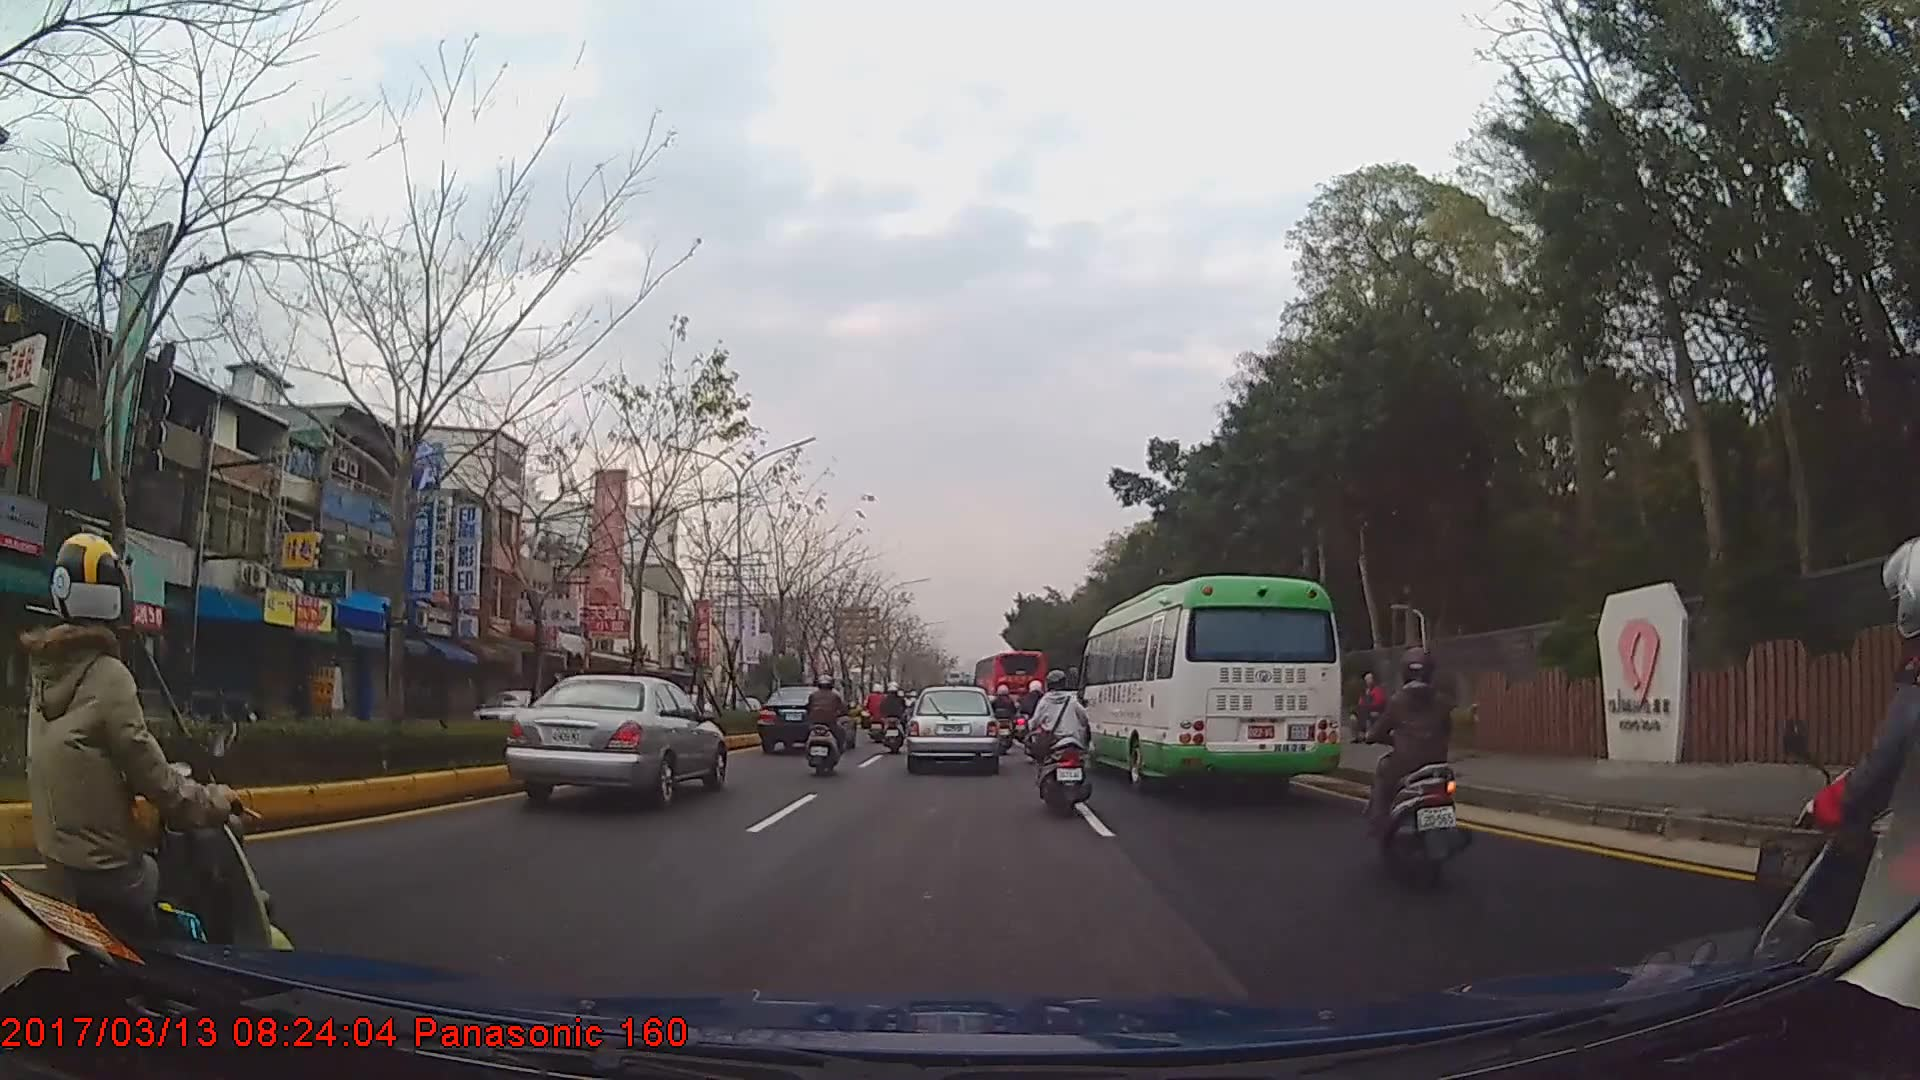pedestrian: (1352, 673, 1389, 748)
rider: (1, 527, 298, 1037), (1359, 649, 1472, 879), (1027, 671, 1089, 818), (806, 674, 850, 776), (879, 683, 908, 755), (987, 686, 1016, 756), (865, 683, 892, 745), (1024, 679, 1049, 745), (904, 691, 924, 728)
vehicle: (1072, 573, 1342, 791), (505, 671, 725, 812), (904, 685, 1001, 772), (758, 683, 859, 754), (973, 647, 1044, 722)
